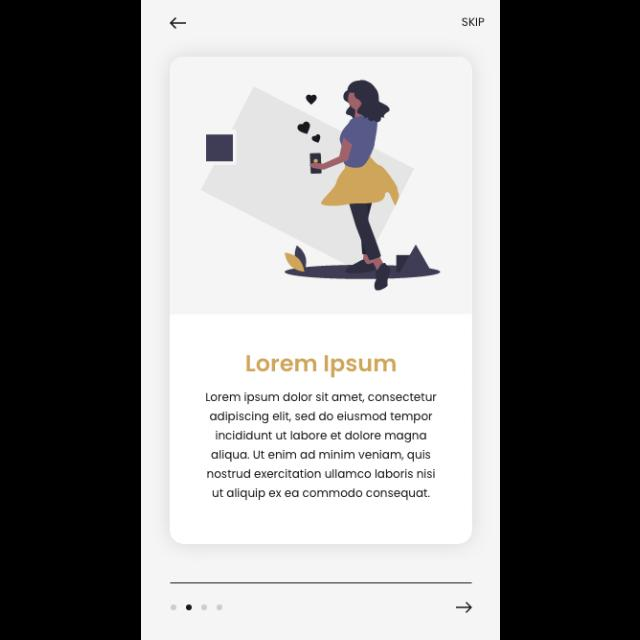icon: (170, 18, 186, 30), (456, 602, 472, 612)
image: (201, 80, 441, 292)
pageindicator: (170, 605, 222, 611)
panel: (169, 56, 473, 546)
text: (207, 393, 438, 501), (246, 356, 396, 378), (462, 19, 484, 27)
